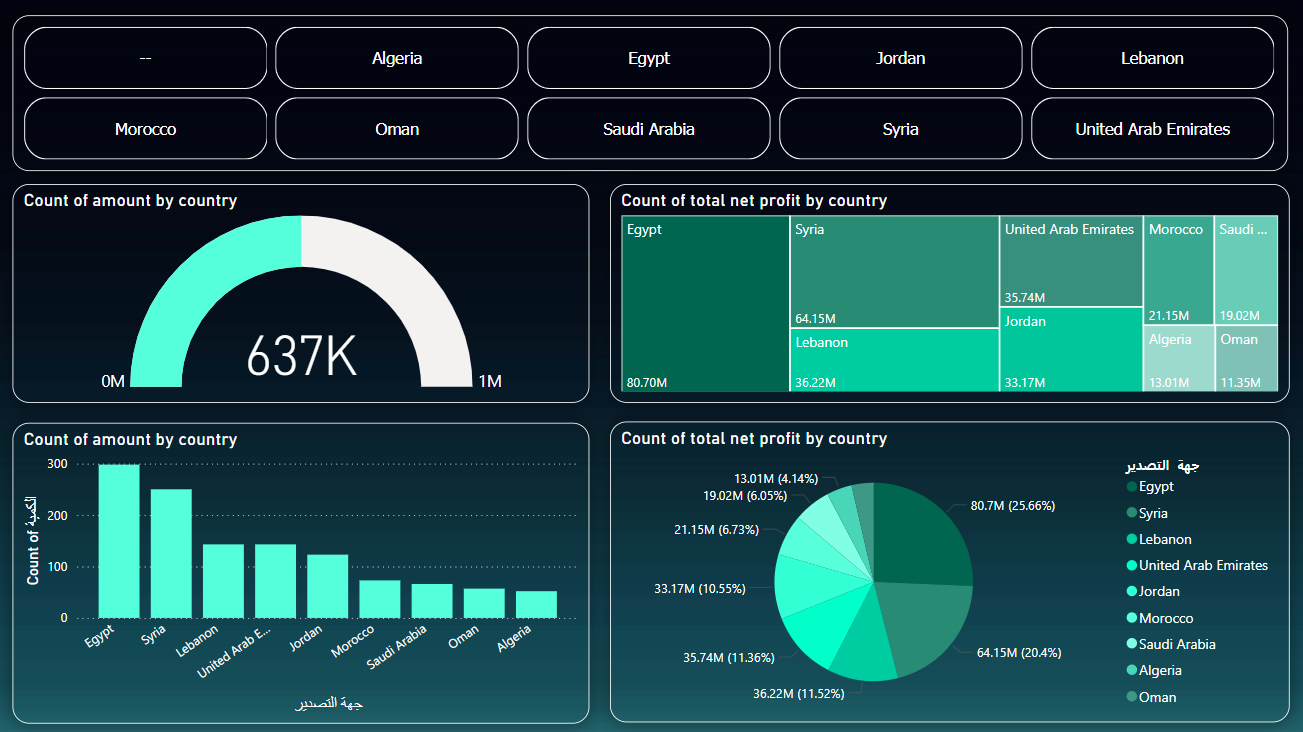

The page's visual inventory and layout, read from the dashboard file:
{"tool":"powerbi","page":{"name":"Page 1","canvas":[1280,720],"ordinal":0},"visuals":[{"type":"image","box":[10,0,1270,720],"z":0},{"type":"columnChart","title":"Count of amount by country","fields":{"Category":["Data.جهة  التصدير"],"Y":["CountNonNull(Data.الكمية)"]},"box":[27.1,414.3,557.1,290],"z":1000},{"type":"pieChart","title":"Count of total net profit by country","fields":{"Category":["Data.جهة  التصدير"],"Y":["Sum(Data.المبلغ الصافي)"]},"box":[602.9,412.9,655.7,290],"z":2000},{"type":"advancedSlicerVisual","title":"Count of total net profit by country","fields":{"Values":["Data.جهة  التصدير"]},"box":[27.1,20,1231.4,150],"z":3000},{"type":"treemap","title":"Count of total net profit by country","fields":{"Group":["Data.جهة  التصدير"],"Values":["Sum(Data.المبلغ الصافي)"]},"box":[602.9,182.9,655.7,211.4],"z":4000},{"type":"gauge","title":"Count of amount by country","fields":{"Y":["Sum(Data.الكمية)"]},"box":[27.1,182.9,557.1,211.4],"z":5000}]}

Visuals, with their boxes in screenshot pixels (x1, y1, x2, y2), scaled from the page's 1280x720 canvas onto the 1303x732 screenshot:
image: [left=10, top=0, right=1302, bottom=731]
"Count of amount by country" columnChart: [left=28, top=421, right=595, bottom=716]
"Count of total net profit by country" pieChart: [left=614, top=420, right=1281, bottom=715]
"Count of total net profit by country" advancedSlicerVisual: [left=28, top=20, right=1281, bottom=173]
"Count of total net profit by country" treemap: [left=614, top=186, right=1281, bottom=401]
"Count of amount by country" gauge: [left=28, top=186, right=595, bottom=401]
